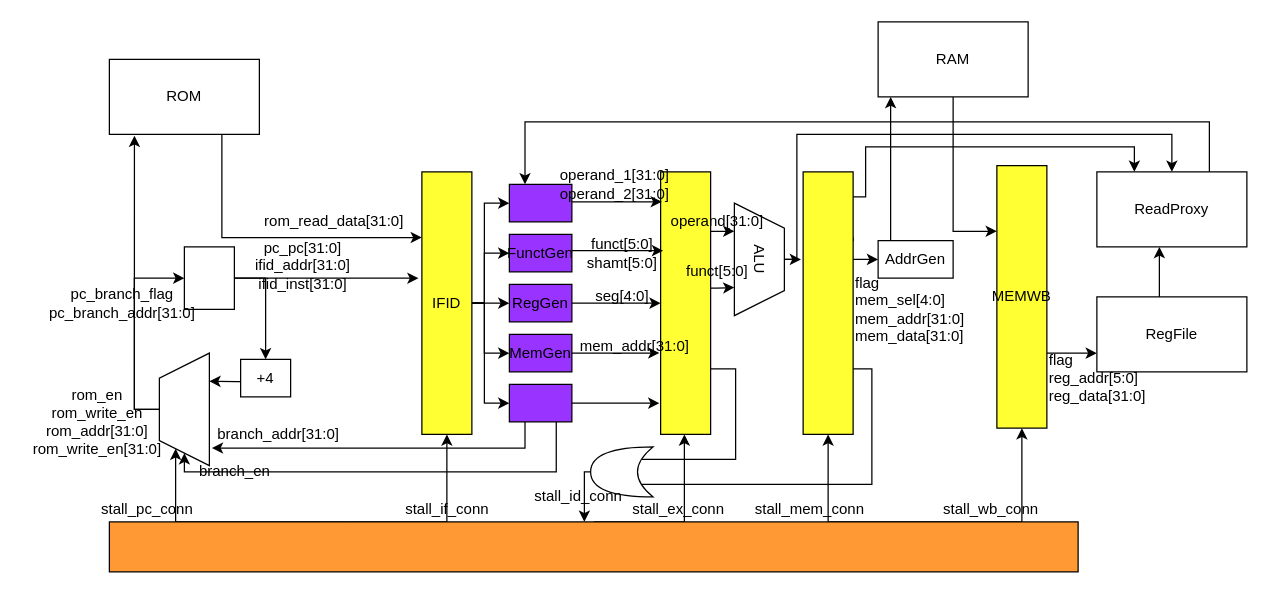
Some shapes in this 1269 by 594 pixel diagram are drawn without their labels. The centre of each missing label's shape, as x and y in pixels:
"BranchGen" goes at (540,402).
"EXMEM" goes at (827,302).
"IDEX" goes at (685,302).
"OprGen" goes at (540,202).
"PC" goes at (208,277).
"PiPelineController" goes at (593,546).
